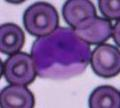M: (32, 27, 90, 80)
